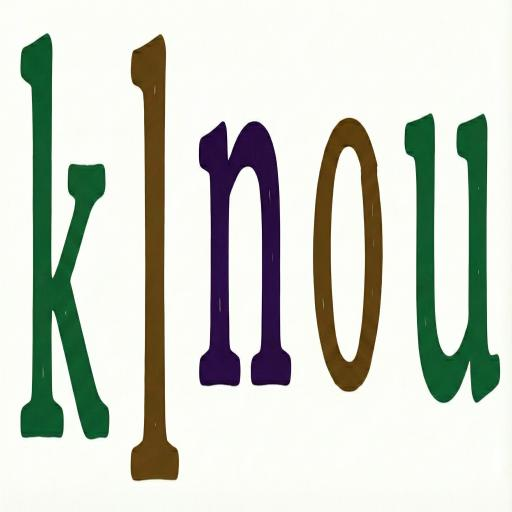O: (309, 108, 388, 400)
k: (16, 34, 110, 466)
l: (126, 28, 181, 491)
n: (195, 110, 297, 414)
u: (398, 103, 504, 409)
